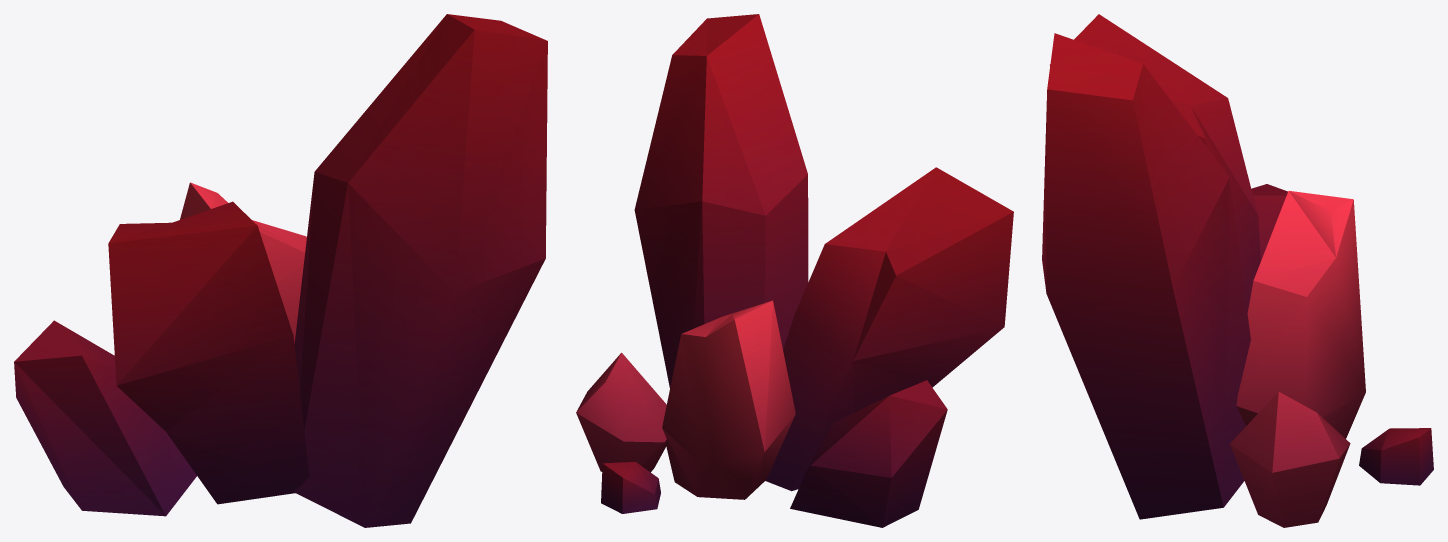
File: ZLP_Crystalk_B_10.FBX
3 renders of one model, left to right at view 1: azimuth 30°, elevation 25°; view 2: azimuth 150°, elevation 25°; view 3: azimuth 270°, elevation 25°, orthographic. The views are drawn at different scales.
Parts seen in each view (by area): view 1: ZLP_Crystalk_B_10; view 2: ZLP_Crystalk_B_10; view 3: ZLP_Crystalk_B_10.
Part boxes in pixels (<box>): ZLP_Crystalk_B_10: <box>14,14,547,527</box>; ZLP_Crystalk_B_10: <box>576,14,1013,527</box>; ZLP_Crystalk_B_10: <box>1042,14,1433,527</box>.
Size of the model in its own units: 141 by 156 by 112.
